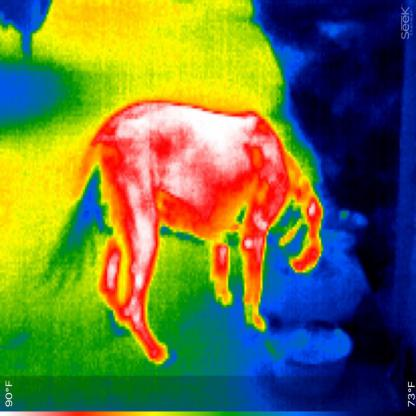dog: (75, 93, 326, 365)
